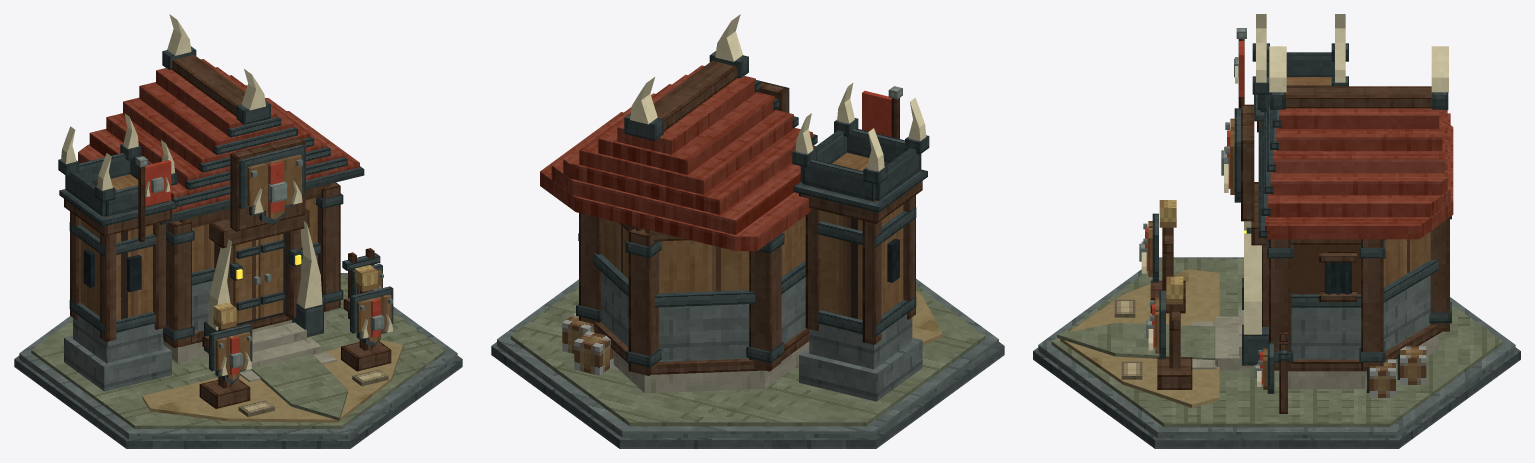
Rendered from orc_guardian_hall_hex_v1.glb.
The picture shows the model from 3 angles, left to right: view 1: azimuth 30°, elevation 25°; view 2: azimuth 150°, elevation 25°; view 3: azimuth 270°, elevation 25°; orthographic projection. The views are drawn at different scales.
Parts seen in each view (by area): view 1: Orc_Guardian_Hall_Hex_V1_Watchtower, Orc_Guardian_Hall_Hex_V1_Foundation, Orc_Guardian_Hall_Hex_V1_Roofs, Orc_Guardian_Hall_Hex_V1_Hall, Orc_Guardian_Hall_Hex_V1_Courtyard, Orc_Guardian_Hall_Hex_V1_Training, Orc_Guardian_Hall_Hex_V1_Details, Orc_Guardian_Hall_Hex_V1_Faction; view 2: Orc_Guardian_Hall_Hex_V1_Roofs, Orc_Guardian_Hall_Hex_V1_Hall, Orc_Guardian_Hall_Hex_V1_Foundation, Orc_Guardian_Hall_Hex_V1_Watchtower, Orc_Guardian_Hall_Hex_V1_Details, Orc_Guardian_Hall_Hex_V1_Faction, Orc_Guardian_Hall_Hex_V1_Courtyard; view 3: Orc_Guardian_Hall_Hex_V1_Roofs, Orc_Guardian_Hall_Hex_V1_Foundation, Orc_Guardian_Hall_Hex_V1_Hall, Orc_Guardian_Hall_Hex_V1_Courtyard, Orc_Guardian_Hall_Hex_V1_Training, Orc_Guardian_Hall_Hex_V1_Details, Orc_Guardian_Hall_Hex_V1_Watchtower, Orc_Guardian_Hall_Hex_V1_Faction.
Part boxes in pixels (x1,y1,x2,y2): Orc_Guardian_Hall_Hex_V1_Watchtower: (58,113,177,391); Orc_Guardian_Hall_Hex_V1_Foundation: (14,273,462,448); Orc_Guardian_Hall_Hex_V1_Roofs: (78,14,364,224); Orc_Guardian_Hall_Hex_V1_Hall: (163,137,343,363); Orc_Guardian_Hall_Hex_V1_Courtyard: (142,322,403,422); Orc_Guardian_Hall_Hex_V1_Training: (199,248,393,417); Orc_Guardian_Hall_Hex_V1_Details: (135,144,322,330); Orc_Guardian_Hall_Hex_V1_Faction: (145,160,380,375); Orc_Guardian_Hall_Hex_V1_Roofs: (540,14,817,250); Orc_Guardian_Hall_Hex_V1_Hall: (576,81,809,393); Orc_Guardian_Hall_Hex_V1_Foundation: (491,279,1004,448); Orc_Guardian_Hall_Hex_V1_Watchtower: (792,83,929,401); Orc_Guardian_Hall_Hex_V1_Details: (562,80,902,375); Orc_Guardian_Hall_Hex_V1_Faction: (862,91,891,136); Orc_Guardian_Hall_Hex_V1_Courtyard: (912,291,942,345); Orc_Guardian_Hall_Hex_V1_Roofs: (1258,46,1453,239); Orc_Guardian_Hall_Hex_V1_Foundation: (1033,257,1520,448); Orc_Guardian_Hall_Hex_V1_Hall: (1241,104,1451,388); Orc_Guardian_Hall_Hex_V1_Courtyard: (1057,269,1254,407); Orc_Guardian_Hall_Hex_V1_Training: (1114,200,1288,413); Orc_Guardian_Hall_Hex_V1_Details: (1221,28,1426,397); Orc_Guardian_Hall_Hex_V1_Watchtower: (1252,14,1348,132); Orc_Guardian_Hall_Hex_V1_Faction: (1145,41,1263,384).
Bounding box in the file's own units: 1.59 × 1.33 × 1.84.
Materials: 1 (1 with a texture image).
